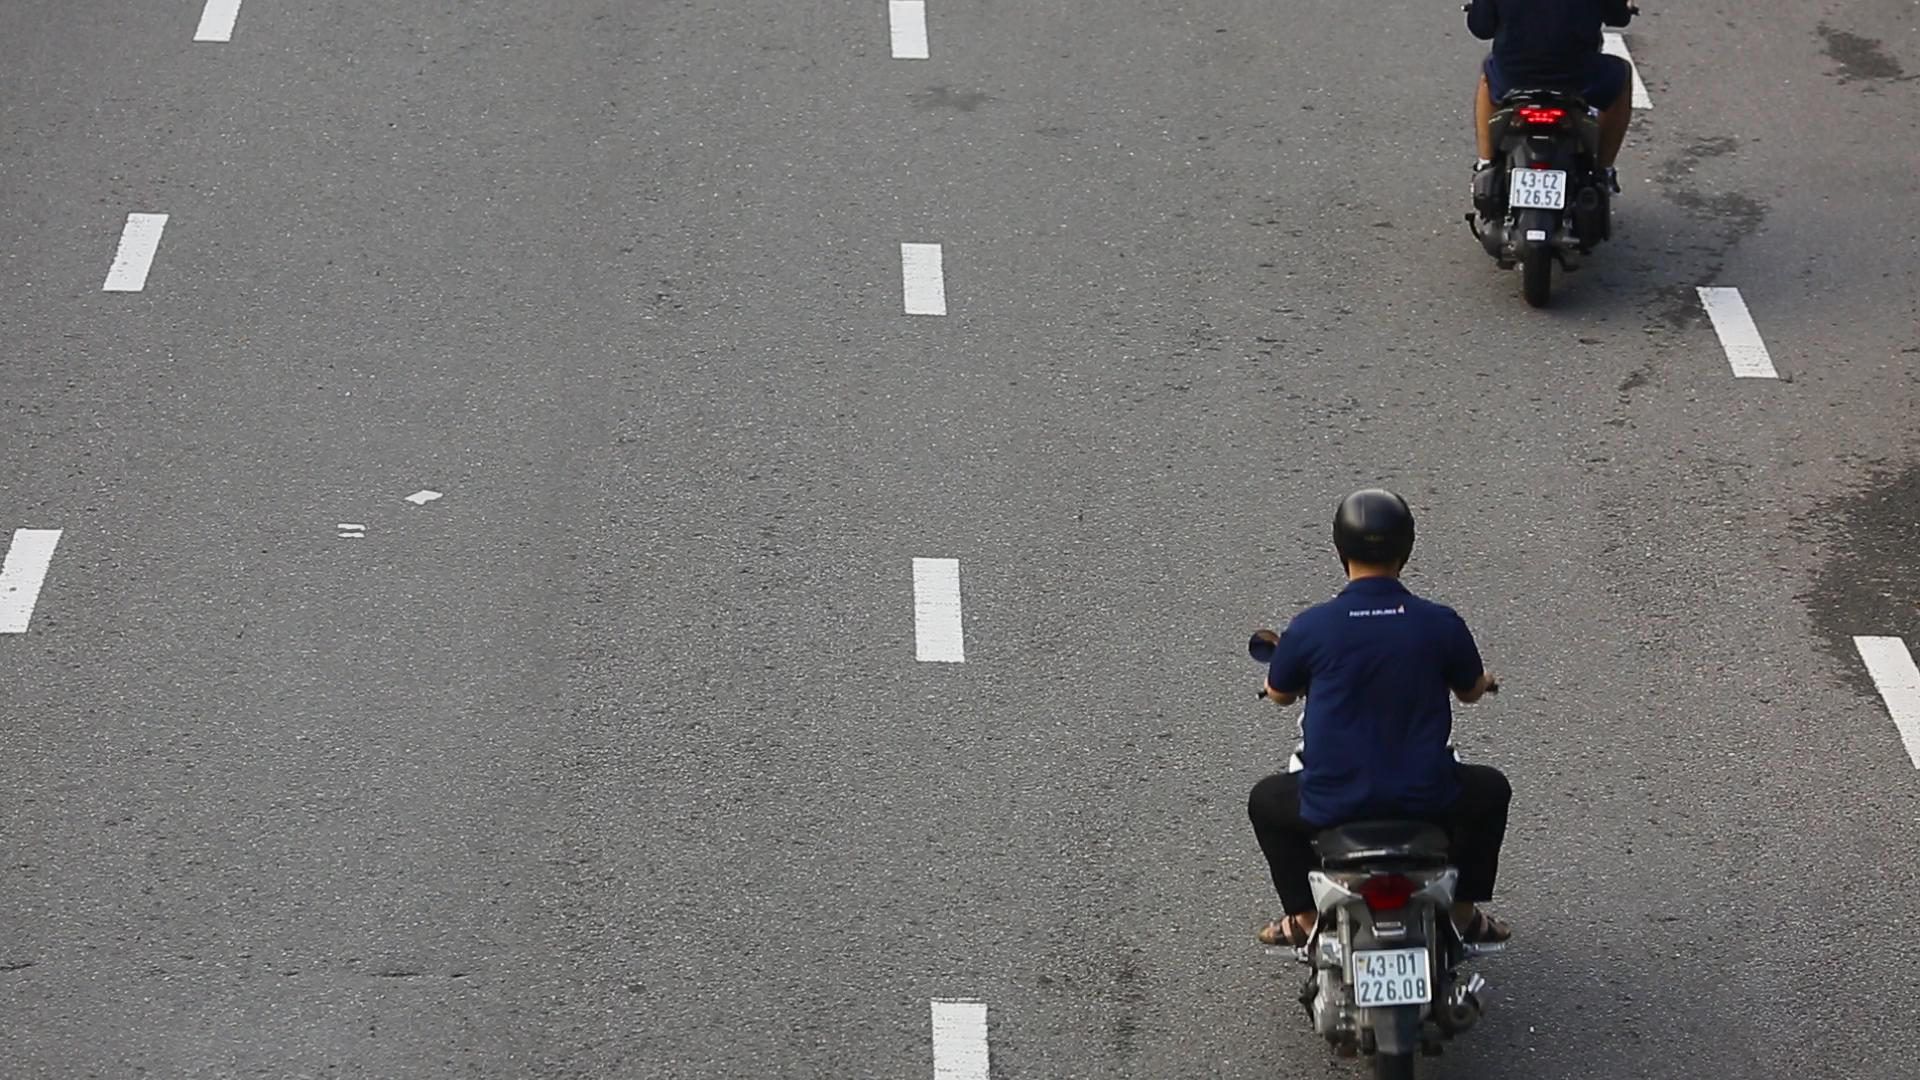motobike: (1245, 484, 1519, 1080)
